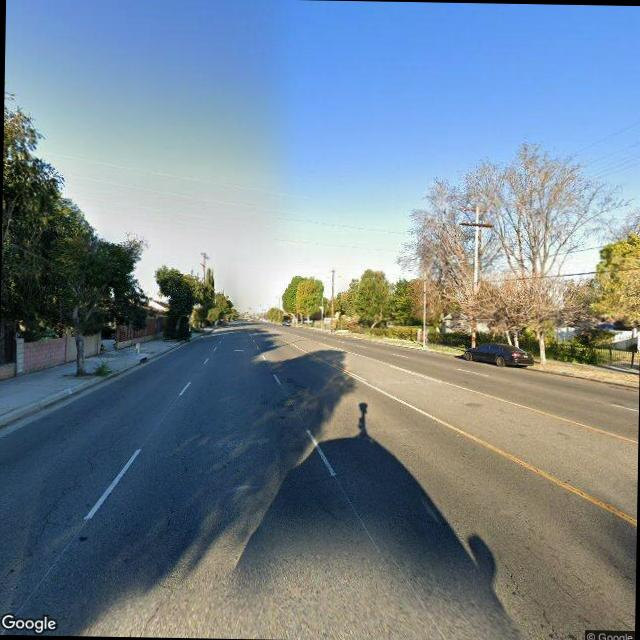pothole: (493, 558, 572, 640)
